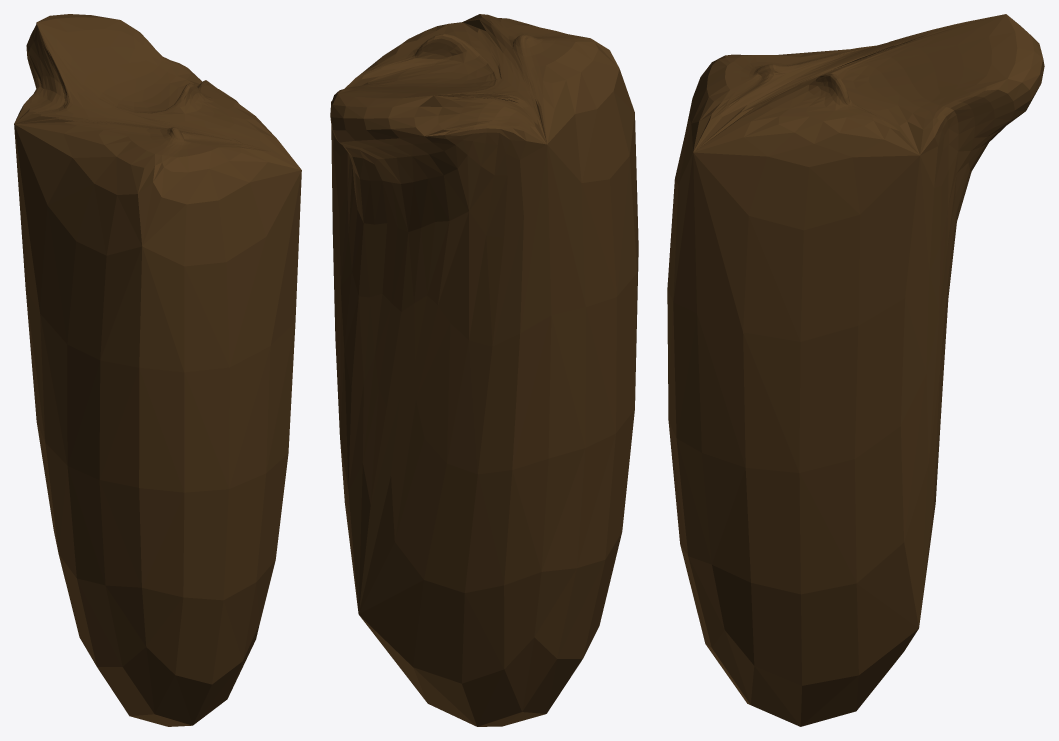
The picture shows the model from 3 angles, left to right: view 1: azimuth 30°, elevation 25°; view 2: azimuth 150°, elevation 25°; view 3: azimuth 270°, elevation 25°; orthographic projection. The views are drawn at different scales.
Visible parts, largest first — view 1: 098_Cube.410; view 2: 098_Cube.410; view 3: 098_Cube.410.
Boxes of the visible parts, bbox=[...] form: 098_Cube.410: bbox=[14, 14, 301, 726]; 098_Cube.410: bbox=[330, 14, 638, 726]; 098_Cube.410: bbox=[667, 14, 1044, 726].
Size of the model in its own units: 4.07 by 12.05 by 5.97.
